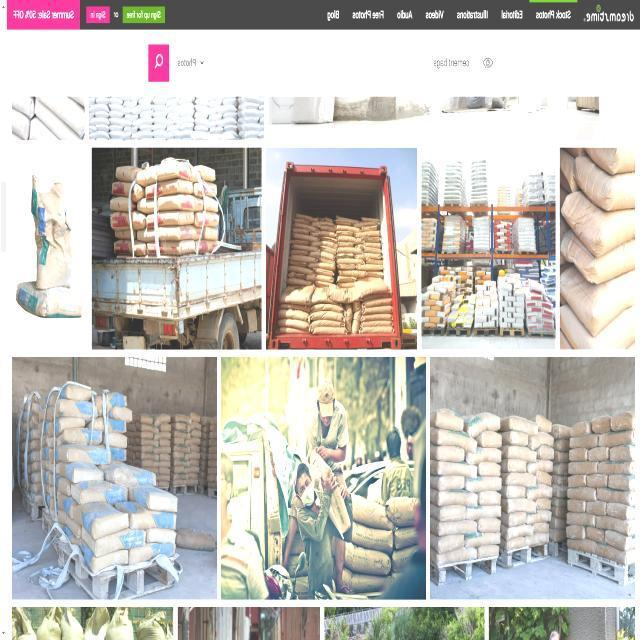gunny_bag: (561, 264, 636, 336), (30, 173, 72, 288), (562, 190, 635, 256), (561, 229, 636, 283), (575, 155, 636, 210), (81, 526, 145, 557), (79, 503, 128, 540), (114, 501, 176, 530), (344, 542, 391, 576), (351, 493, 393, 530), (100, 463, 155, 488), (352, 521, 393, 553), (70, 481, 127, 504), (586, 148, 636, 173), (127, 487, 177, 512), (328, 485, 352, 537), (430, 426, 477, 452), (54, 444, 111, 464), (127, 543, 174, 565), (54, 462, 103, 483), (464, 412, 501, 438), (386, 497, 418, 526), (430, 459, 478, 478), (431, 488, 478, 507), (55, 427, 102, 446), (355, 277, 391, 300), (279, 283, 315, 305), (430, 408, 464, 431), (56, 494, 81, 525), (597, 516, 635, 536), (156, 159, 192, 180), (430, 533, 465, 554), (597, 488, 636, 506), (466, 446, 502, 465), (156, 193, 195, 210), (157, 225, 199, 240), (465, 476, 502, 493), (600, 430, 636, 447), (310, 451, 331, 480), (606, 531, 636, 551), (502, 445, 537, 462), (157, 210, 194, 225), (394, 527, 418, 550), (502, 472, 537, 487), (467, 505, 502, 520), (502, 498, 536, 513), (310, 311, 343, 326), (607, 502, 636, 519), (567, 511, 597, 527), (529, 431, 554, 449), (501, 430, 529, 446), (476, 431, 502, 448), (145, 529, 176, 543), (115, 164, 140, 181), (568, 539, 596, 554), (502, 511, 528, 527), (611, 446, 636, 462), (592, 415, 612, 434), (501, 536, 526, 551), (108, 406, 131, 422), (501, 459, 527, 473), (109, 210, 128, 229), (568, 488, 598, 500), (193, 164, 215, 180), (527, 510, 552, 524), (278, 309, 309, 320), (587, 473, 609, 488), (478, 462, 501, 476), (479, 491, 502, 505), (571, 421, 592, 436), (108, 432, 127, 448), (589, 447, 610, 461), (587, 527, 605, 543), (536, 415, 552, 433), (131, 210, 146, 229), (109, 196, 127, 211), (570, 447, 589, 461), (569, 474, 588, 487), (202, 225, 218, 240), (538, 471, 553, 486), (137, 227, 153, 241), (204, 211, 219, 225), (537, 498, 552, 510), (194, 212, 202, 225), (146, 214, 153, 226), (131, 201, 136, 209)
